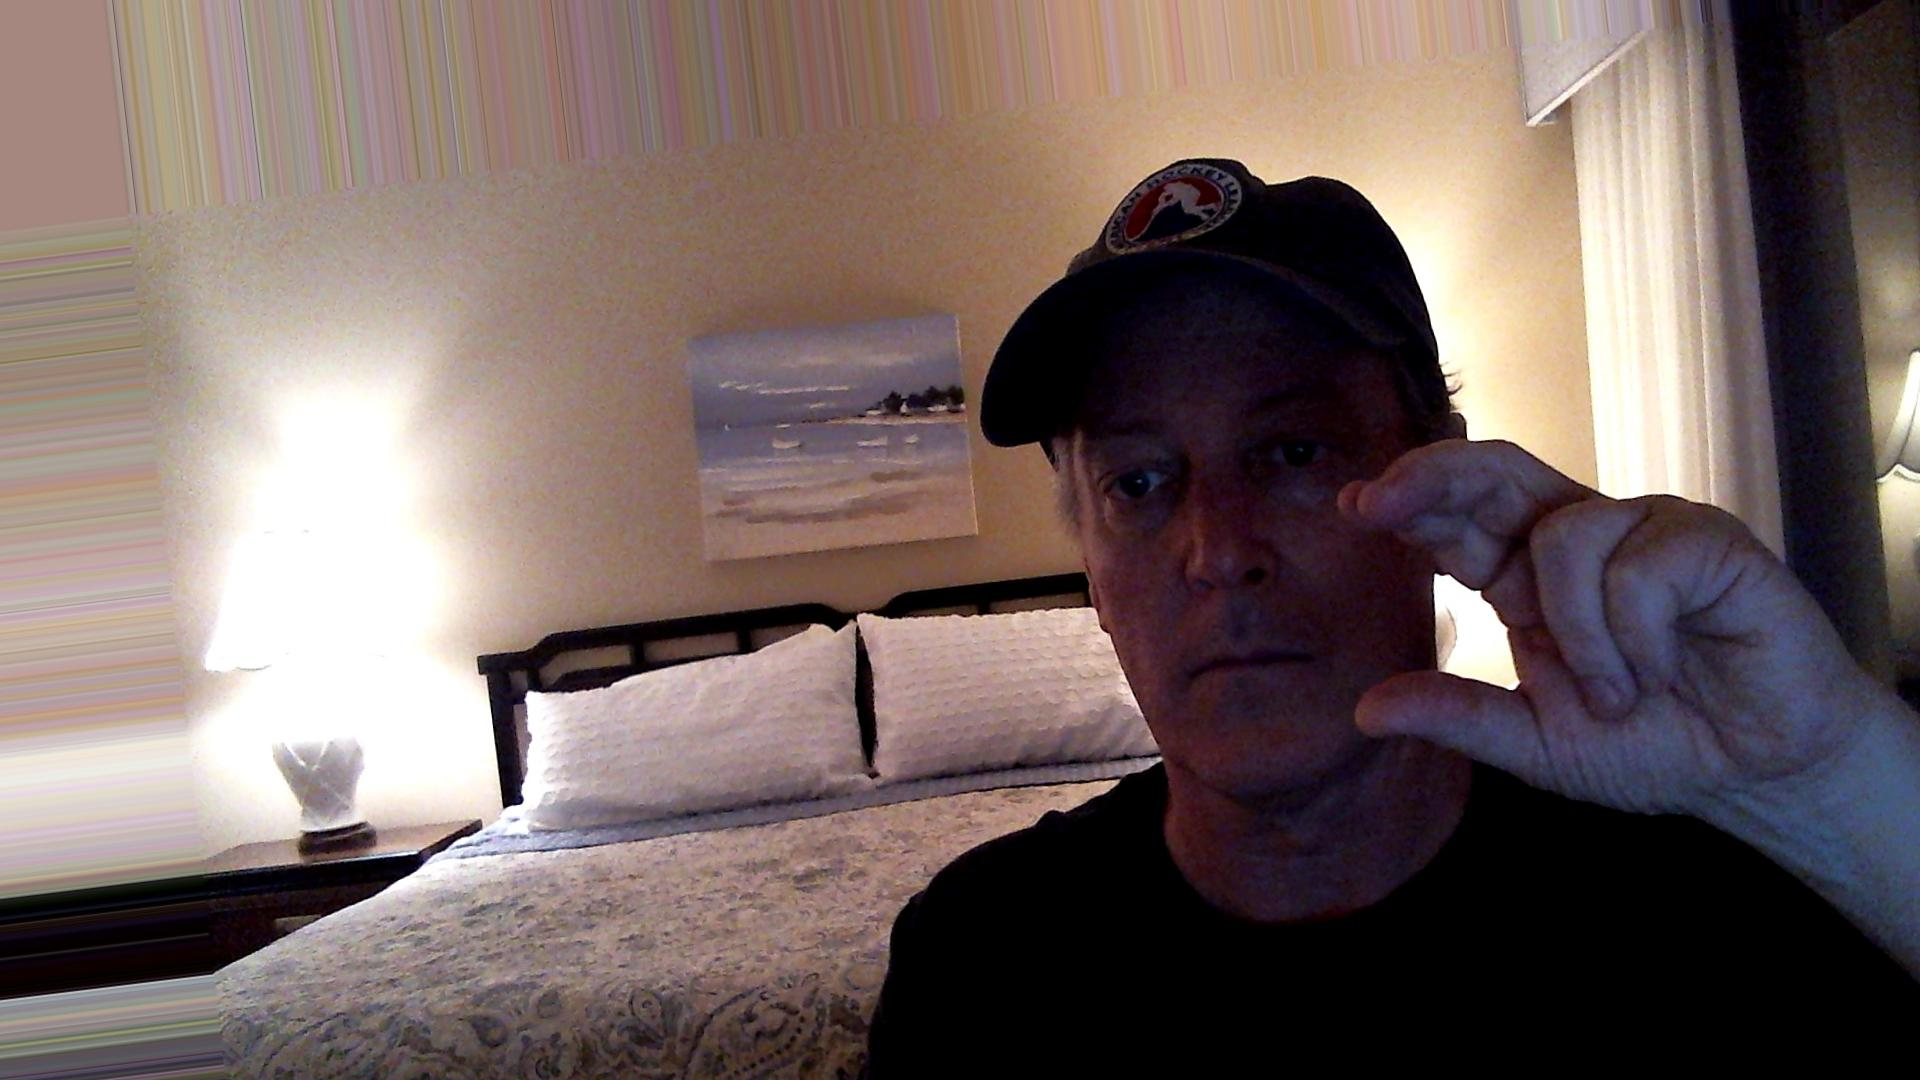No: (1299, 425, 1883, 866)
